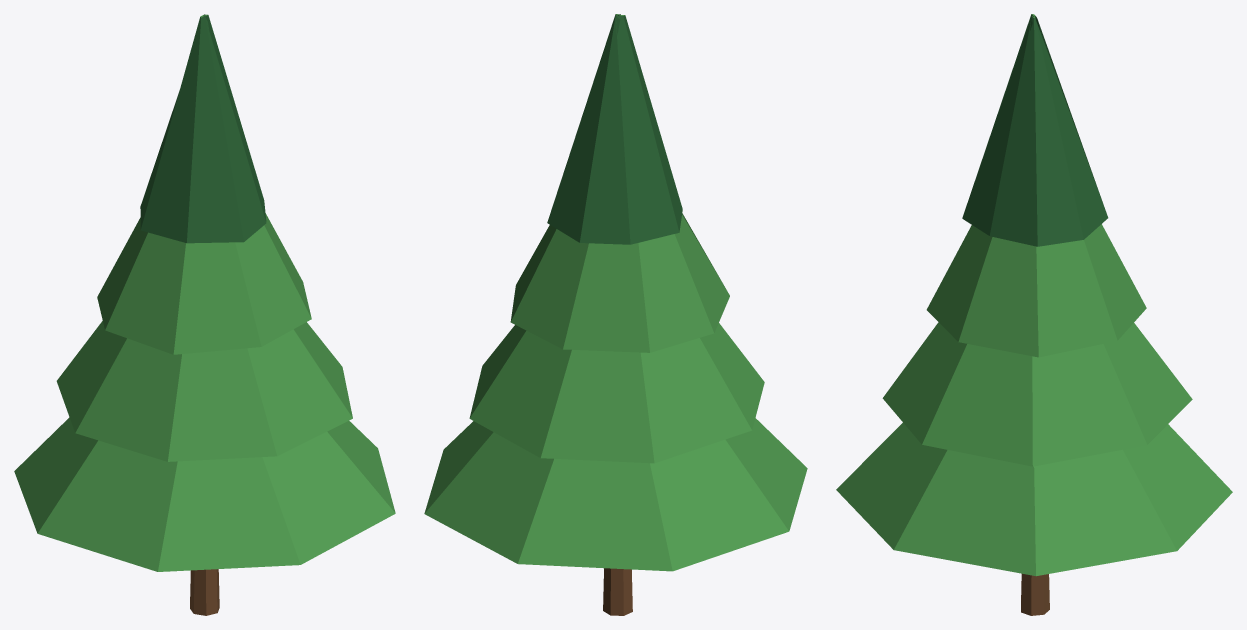
File: veg_pine.glb
3 renders of one model, left to right at view 1: azimuth 30°, elevation 25°; view 2: azimuth 150°, elevation 25°; view 3: azimuth 270°, elevation 25°, orthographic.
Parts seen in each view (by area): view 1: veg_pine; view 2: veg_pine; view 3: veg_pine.
Part boxes in pixels (bbox=[...]): veg_pine: bbox=[14, 14, 395, 615]; veg_pine: bbox=[424, 14, 807, 615]; veg_pine: bbox=[836, 14, 1232, 615].
Size of the model in its own units: 5.16 by 8.54 by 5.18.
